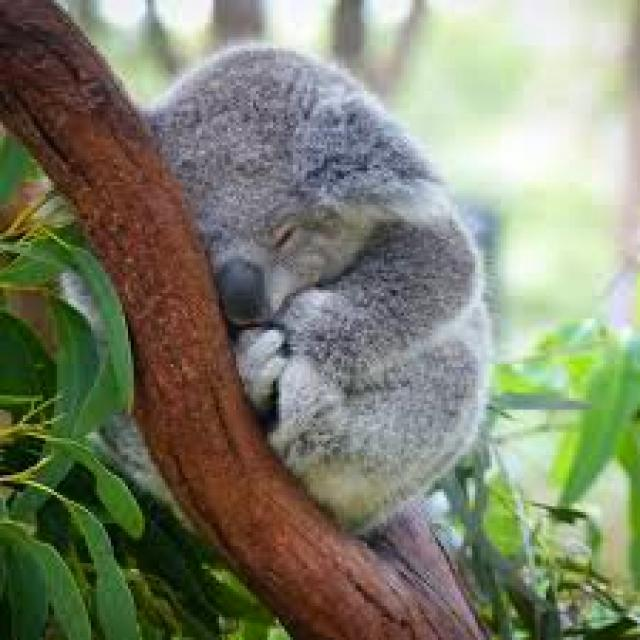koala: (145, 46, 489, 532)
